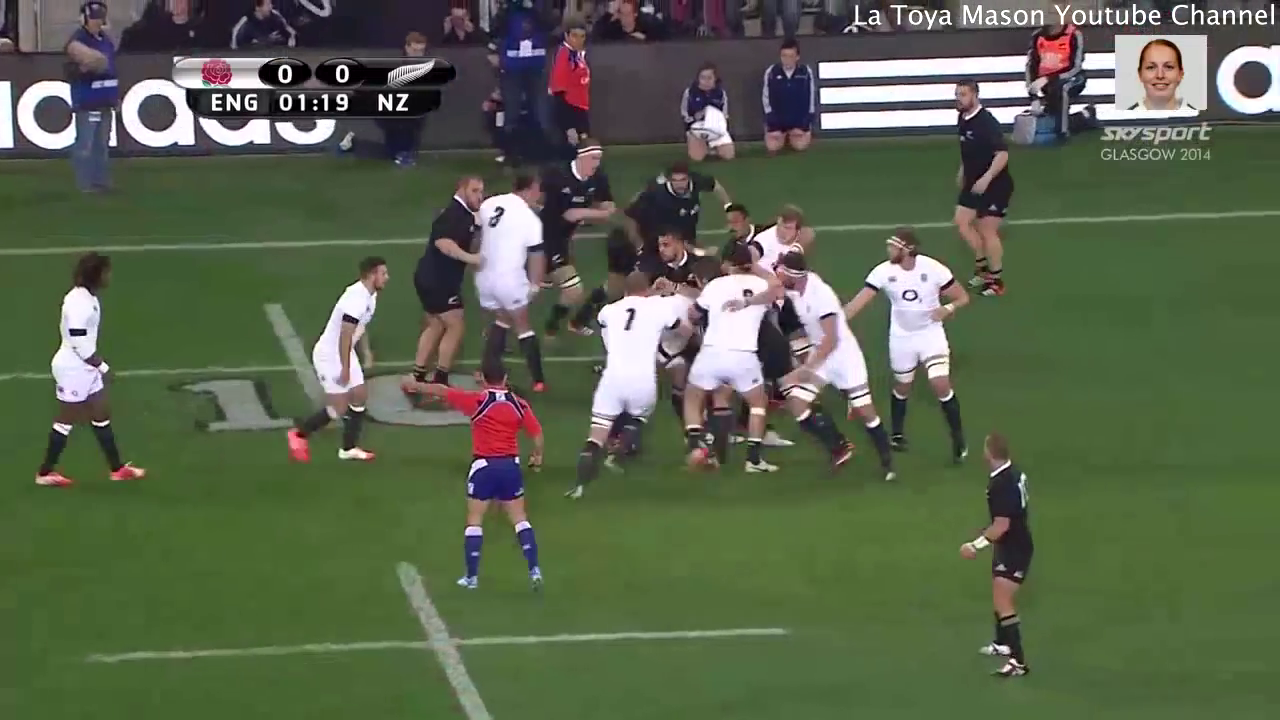10_metre: (74, 554, 815, 720), (1, 284, 647, 437)
player: (390, 357, 568, 606), (829, 226, 981, 481), (770, 250, 905, 509), (557, 271, 693, 513), (26, 244, 147, 500), (278, 243, 397, 483), (679, 244, 791, 498), (393, 164, 491, 418), (953, 424, 1045, 690), (462, 164, 561, 405), (528, 128, 629, 362), (938, 72, 1029, 303), (618, 146, 733, 271), (740, 188, 832, 279), (639, 219, 728, 304), (716, 192, 765, 266)
